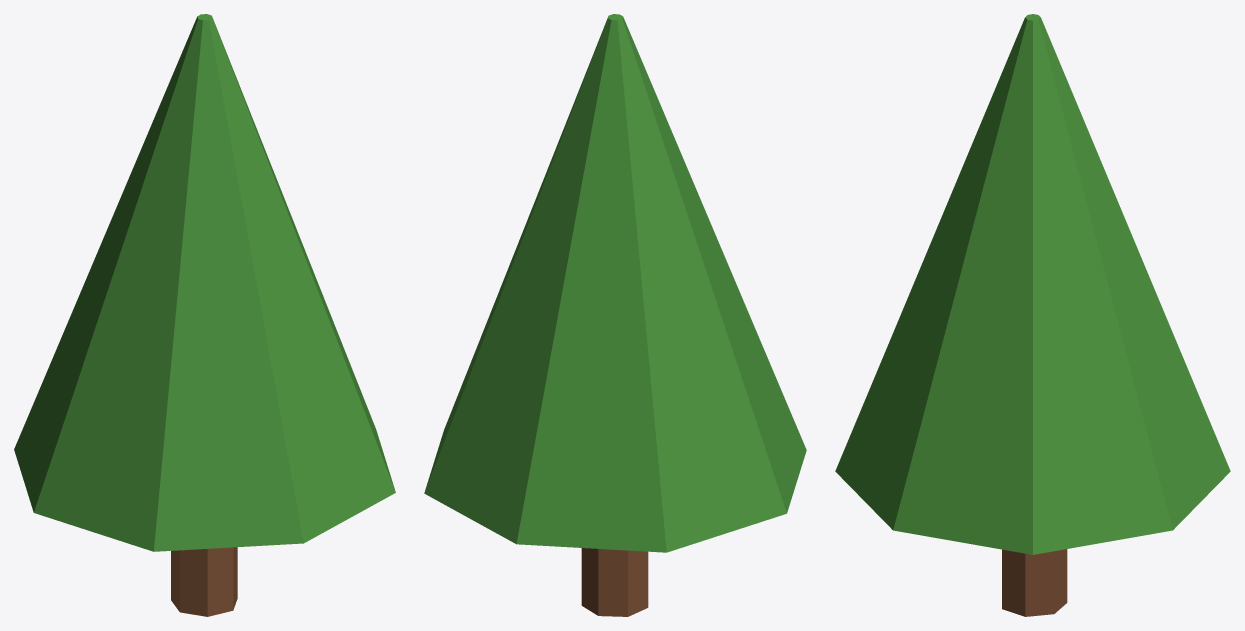
The model's file is tree_a.glb.
3 views of the same model, side by side, from view 1: azimuth 30°, elevation 25°; view 2: azimuth 150°, elevation 25°; view 3: azimuth 270°, elevation 25° (orthographic).
Parts seen in each view (by area): view 1: TreeA; view 2: TreeA; view 3: TreeA.
Part boxes in pixels (box(x1,y1,x2,y2)): TreeA: box(14, 14, 395, 616); TreeA: box(424, 14, 806, 616); TreeA: box(835, 14, 1230, 616).
Bounding box in the file's own units: 1.5 × 2.45 × 1.5.
